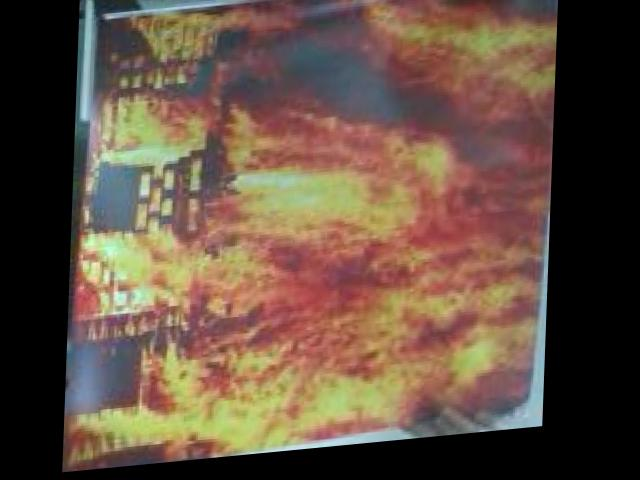fire-poster: (68, 0, 560, 474)
